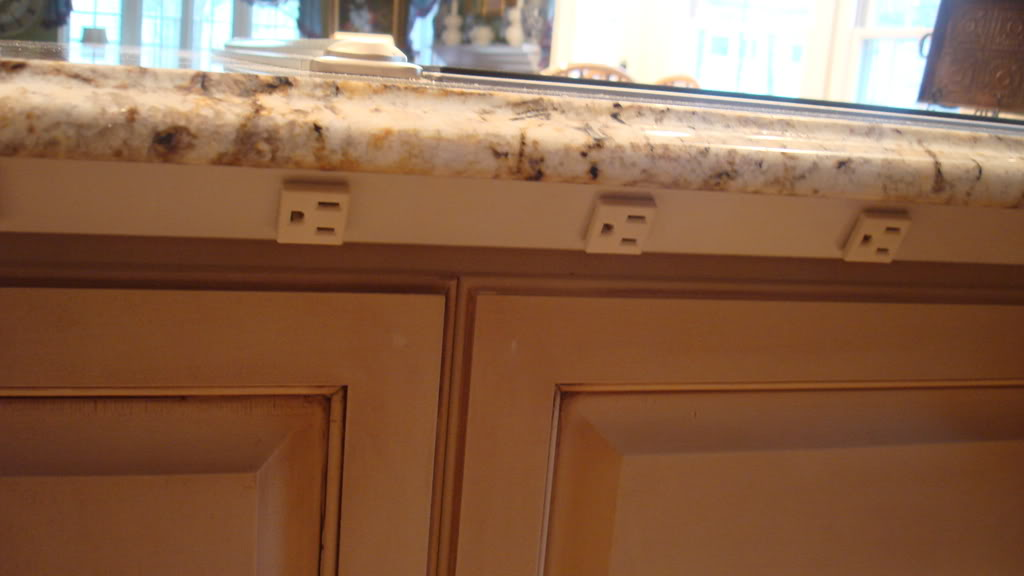outlet: (285, 190, 344, 240), (597, 199, 651, 251), (856, 215, 906, 261)
